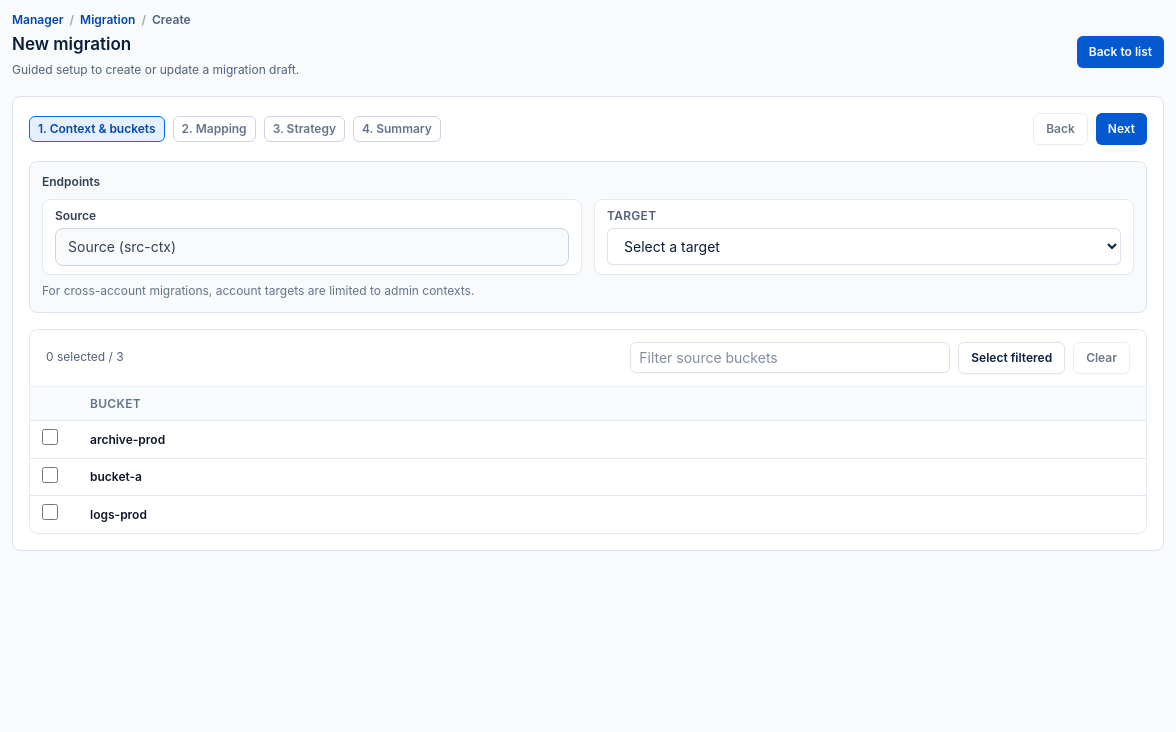
it: ManagerMigrationWizardPage › supports filtering source buckets and selecting filtered results
Expected: the heading "New migration" is shown, [12,32,131,56]
Type "prod" into the field with placeholder "Filter source buckets" at x=790, y=358, box [630,342,950,373]
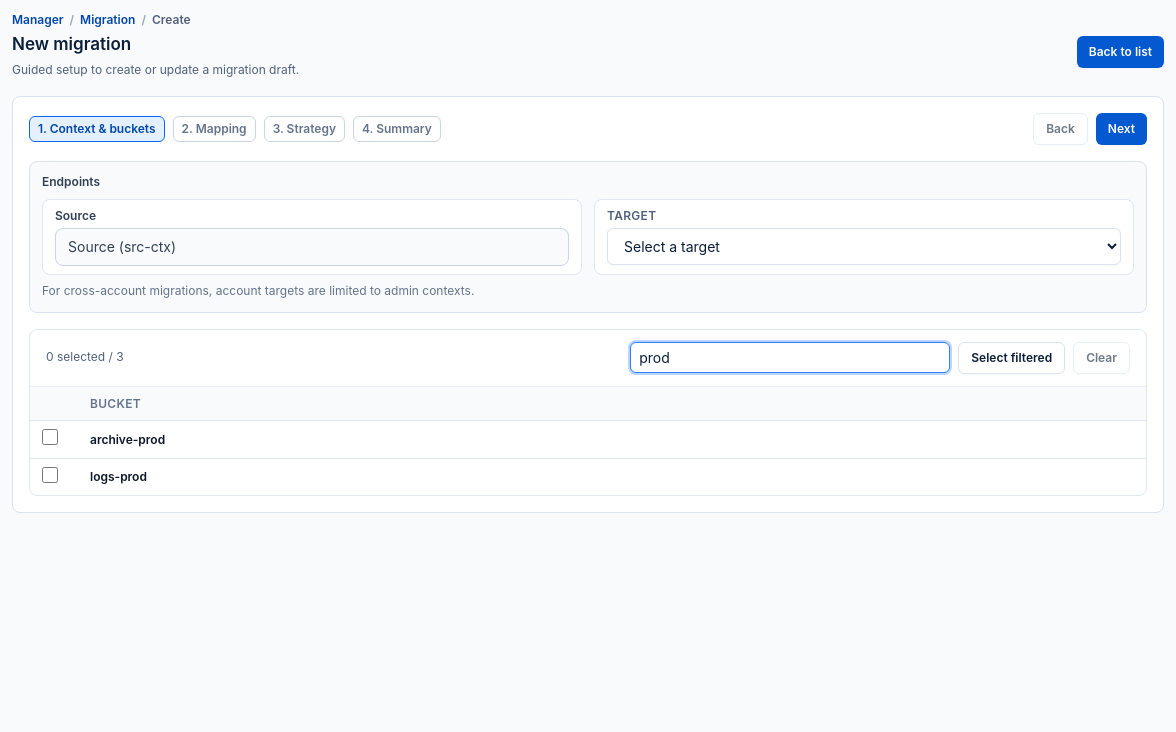
Expected: the checkbox named "Select logs-prod" is shown, [42,467,58,483]
Expected: the checkbox named "Select archive-prod" is shown, [42,429,58,445]
Click the button "Select filtered" at x=1012, y=358, box [958,342,1065,374]
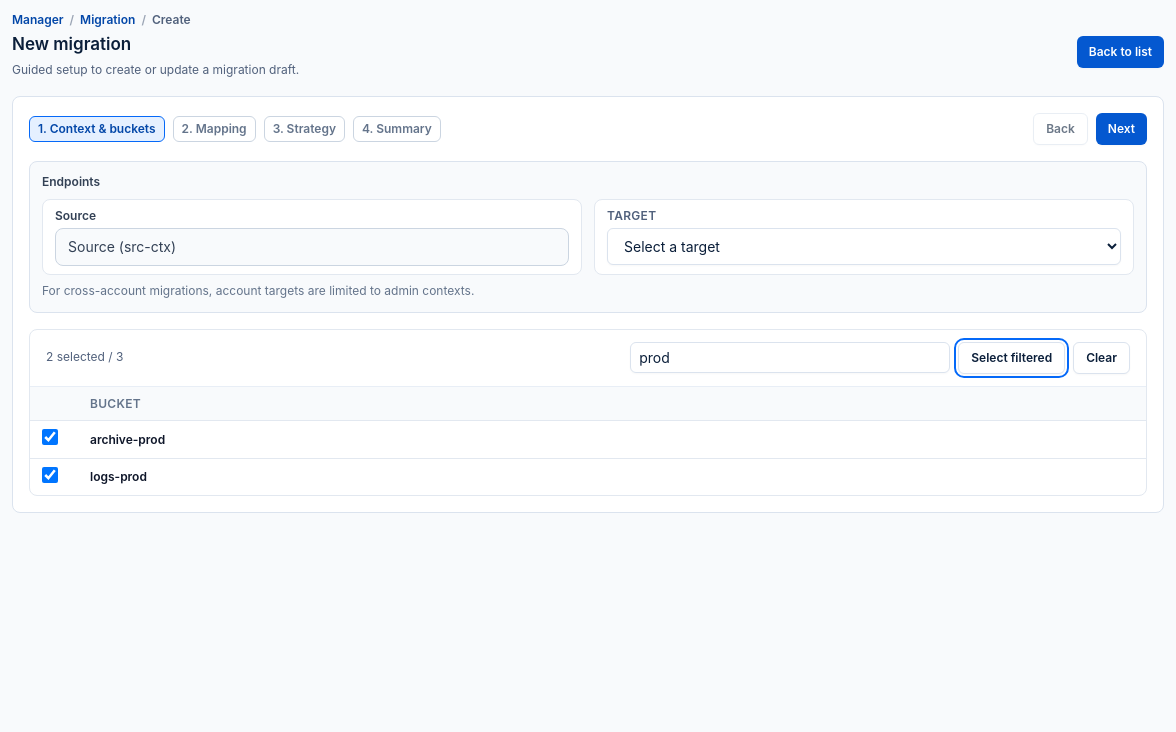
Expected: the text "2 selected / 3" is shown, [46,349,123,366]
Click the button "Clear" at x=1102, y=358, box [1073,342,1130,374]
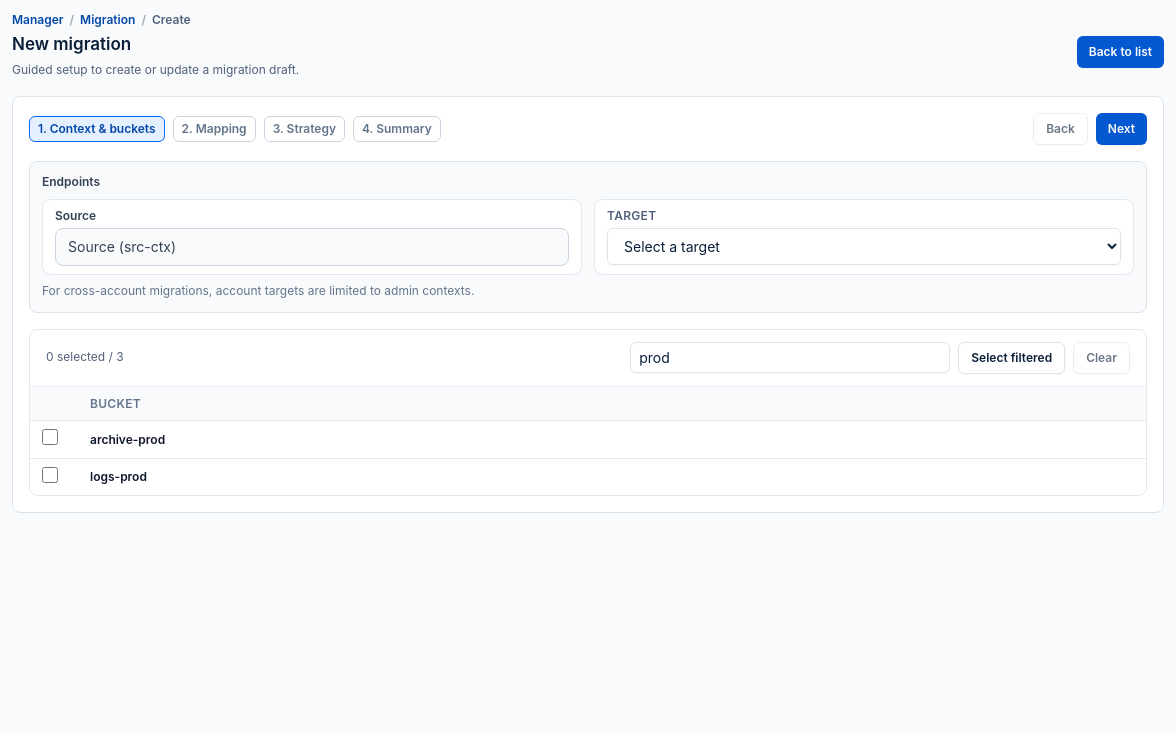
Expected: the text "0 selected / 3" is shown, [46,349,124,366]
Click the button "Select filtered" at x=1012, y=358, box [958,342,1065,374]
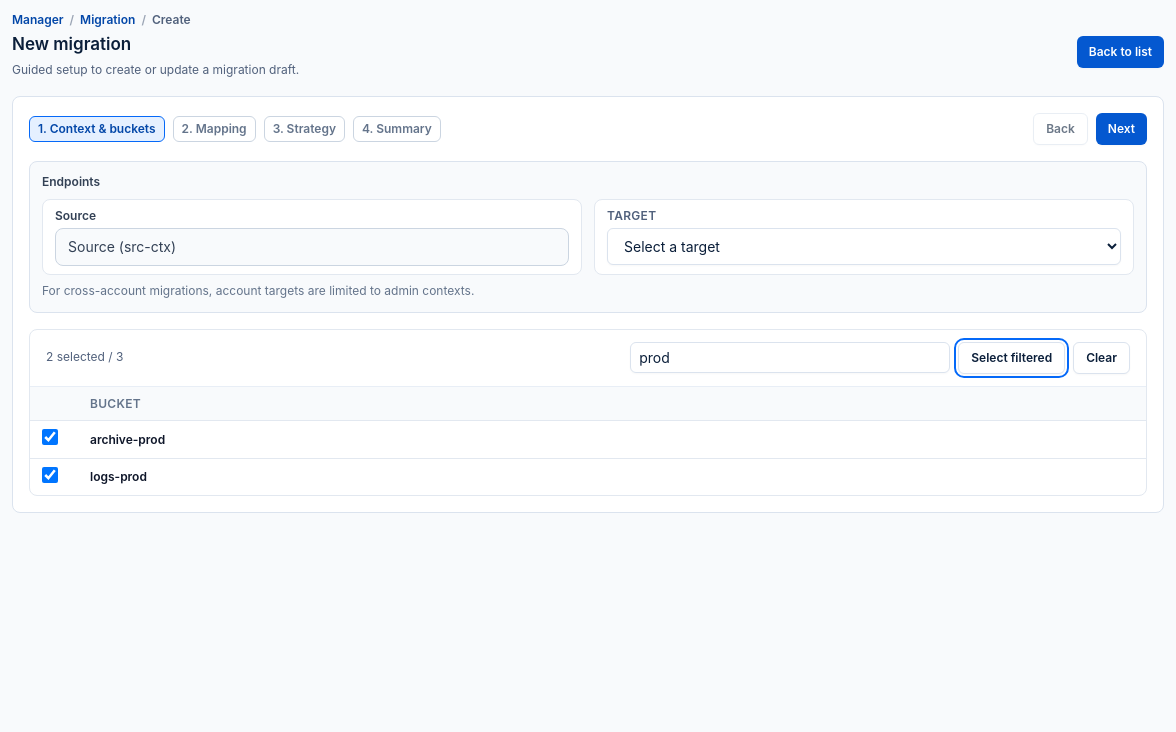
Select "Target (tgt-ctx)" in the dropdown labelled "Target" at x=864, y=246, box [607,228,1121,265]
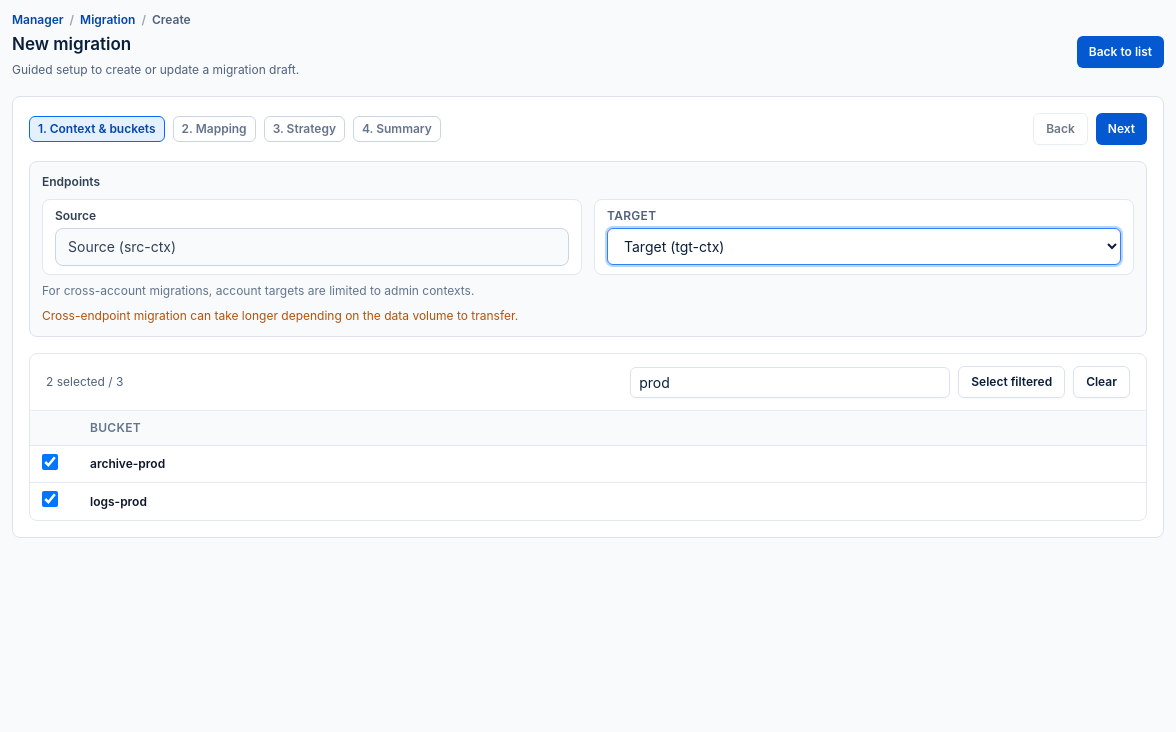
Click the button "Next" at x=1121, y=129, box [1096,113,1147,145]
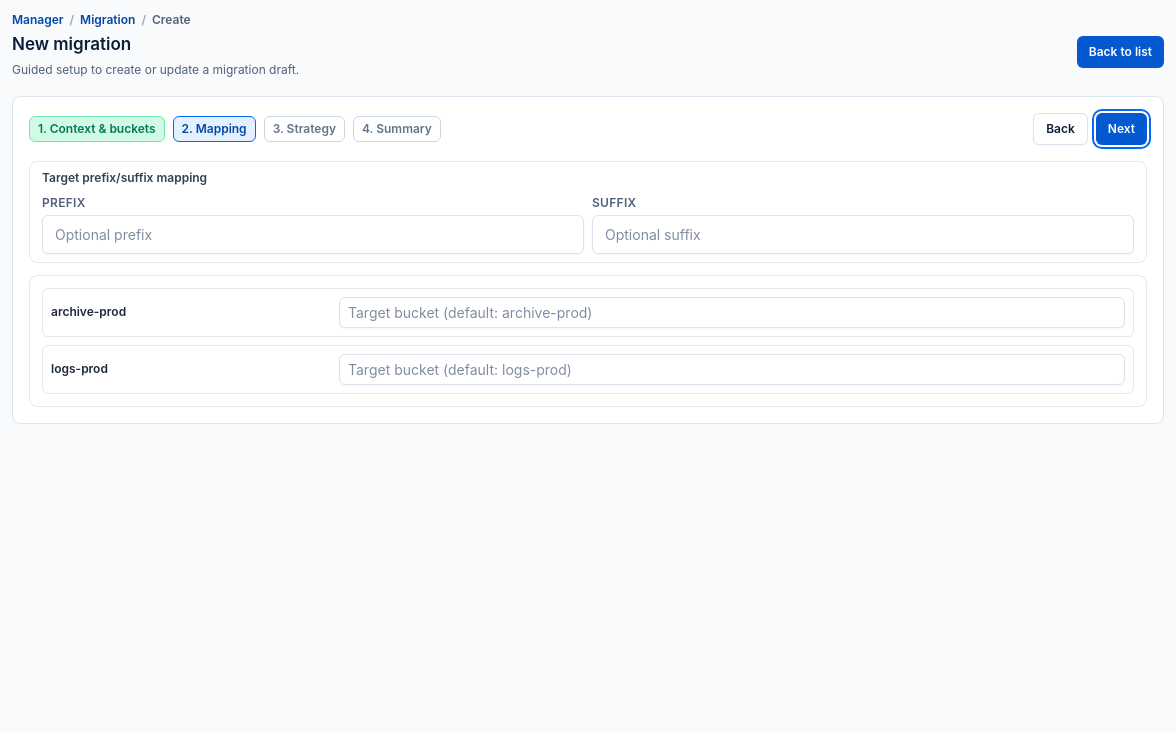
Expected: the text "logs-prod" is shown, [51,361,108,376]
Expected: the text "Target prefix/suffix mapping" is shown, [42,170,207,185]
